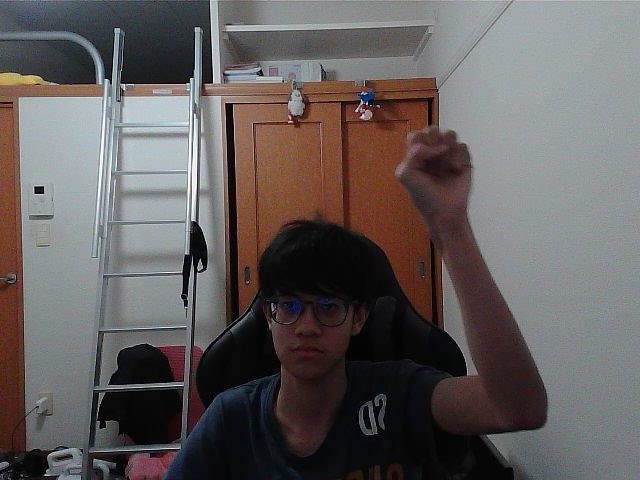closed_palm: (409, 132, 462, 213)
